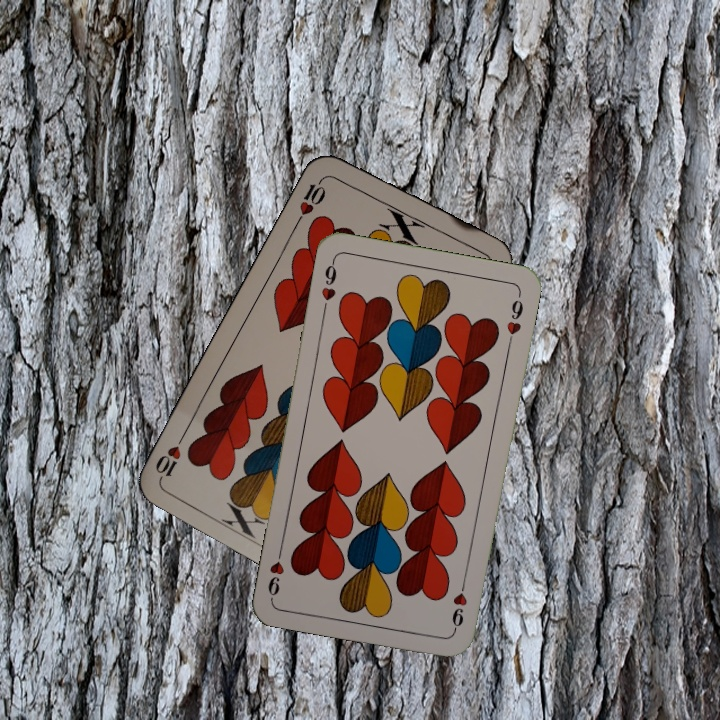H10: (292, 172, 329, 226)
H9: (317, 256, 339, 315), (448, 574, 470, 633)
